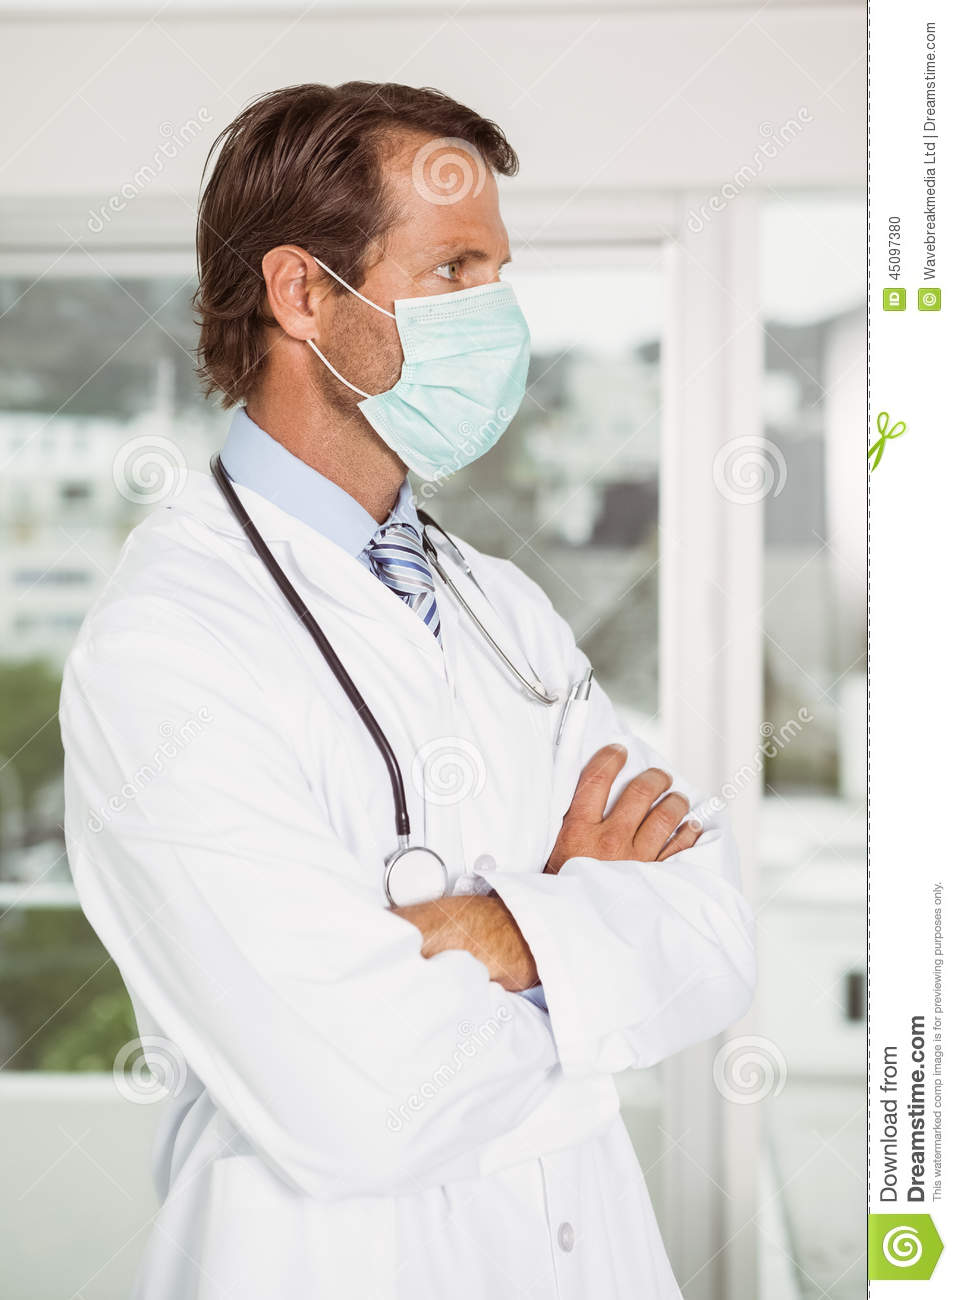mask: (364, 295, 554, 469)
